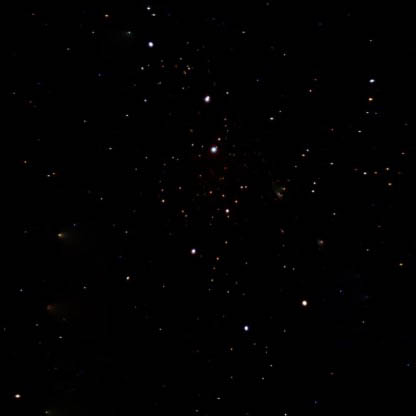Ursa Major: (137, 35, 163, 57), (295, 288, 314, 316), (196, 88, 223, 107), (183, 241, 203, 261), (216, 198, 235, 218), (237, 318, 256, 338), (207, 135, 222, 158)
